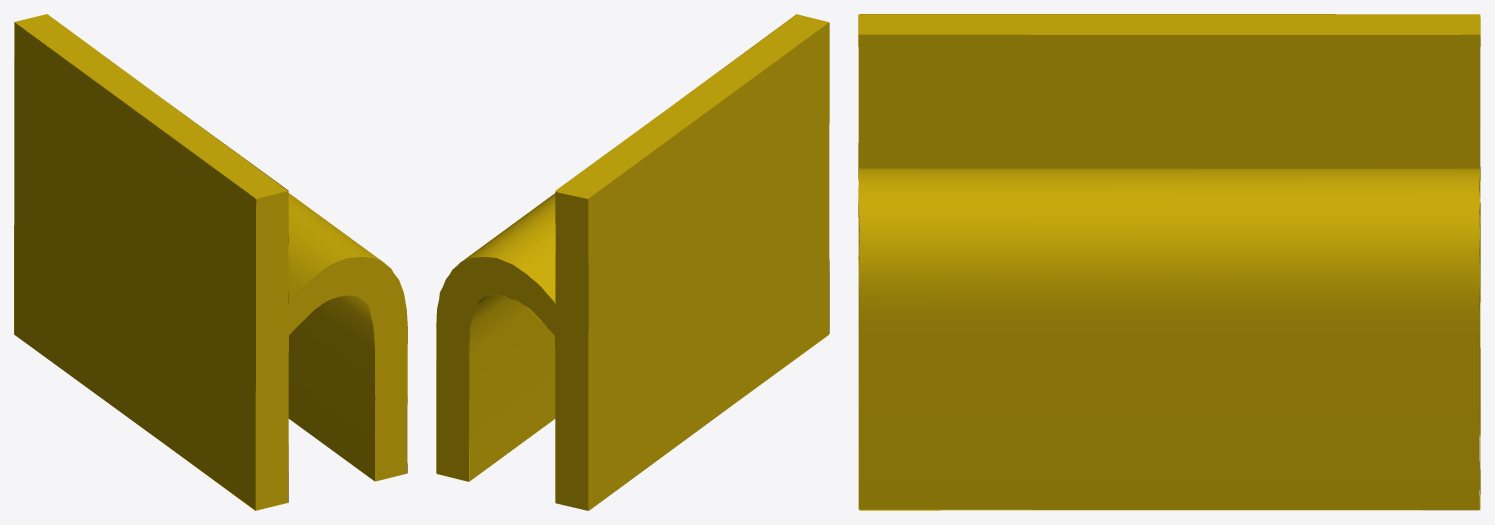
File: original-3.obj
The picture shows the model from 3 angles, left to right: view 1: azimuth 30°, elevation 25°; view 2: azimuth 150°, elevation 25°; view 3: azimuth 270°, elevation 25°; orthographic projection. The views are drawn at different scales.
Visible parts, largest first — view 1: #ID19; view 2: #ID19; view 3: #ID19.
Boxes of the visible parts, box(x1,y1,x2,y2) form: #ID19: box(14, 14, 407, 510); #ID19: box(436, 14, 829, 510); #ID19: box(858, 14, 1480, 510).
Size of the model in its own units: 0.0281 by 0.0551 by 0.0773.
